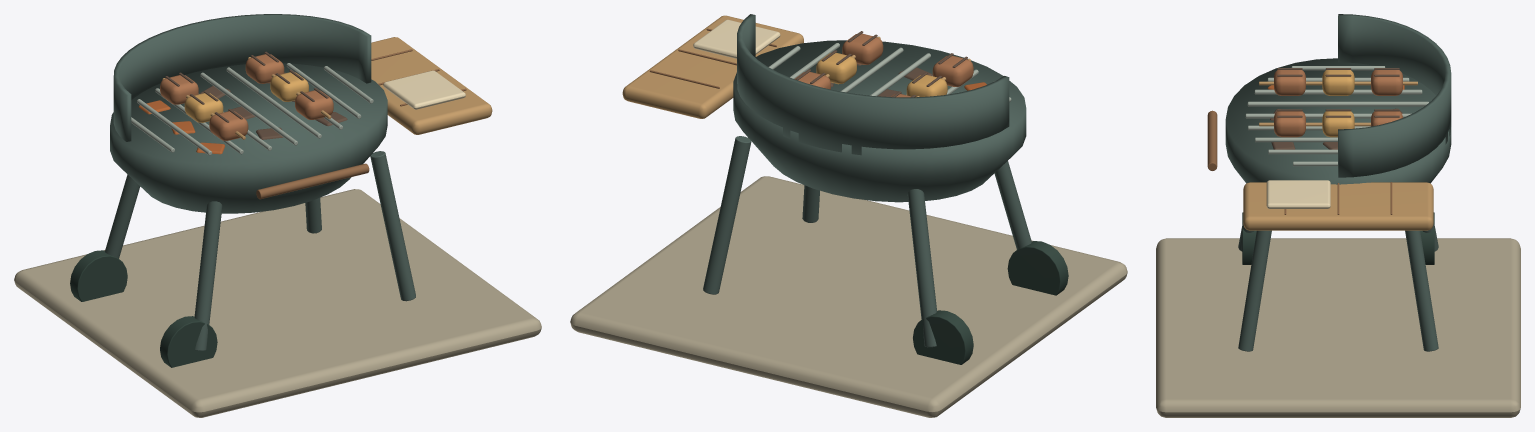
File: cozy_grill.glb
3 renders of one model, left to right at view 1: azimuth 30°, elevation 25°; view 2: azimuth 150°, elevation 25°; view 3: azimuth 270°, elevation 25°, orthographic. The views are drawn at different scales.
Parts seen in each view (by area): view 1: grill_Stone, grill_Iron, grill_TimberLight, grill_IronDark, grill_Steel, CookingFood_Roast, grill_Canvas, CookingFood_Crust, grill_Timber, WarmCoals_Char, WarmCoals_Ember, CookingFood_Char; view 2: grill_Stone, grill_Iron, grill_TimberLight, grill_IronDark, CookingFood_Roast, CookingFood_Crust, grill_Canvas, grill_Steel, CookingFood_Char; view 3: grill_Stone, grill_Iron, grill_TimberLight, grill_Steel, CookingFood_Roast, grill_Canvas, CookingFood_Crust, grill_IronDark, grill_Timber, CookingFood_Char, CookingFood_TimberLight.
Part boxes in pixels (<box>): grill_Stone: <box>14,189,541,417</box>; grill_Iron: <box>105,14,415,350</box>; grill_TimberLight: <box>371,37,492,134</box>; grill_IronDark: <box>70,250,217,367</box>; grill_Steel: <box>131,63,373,155</box>; CookingFood_Roast: <box>160,54,333,140</box>; grill_Canvas: <box>383,70,465,109</box>; CookingFood_Crust: <box>184,72,308,122</box>; grill_Timber: <box>256,49,466,199</box>; WarmCoals_Char: <box>199,72,347,139</box>; WarmCoals_Ember: <box>138,100,224,154</box>; CookingFood_Char: <box>165,51,328,122</box>; grill_Stone: <box>570,176,1127,417</box>; grill_Iron: <box>703,14,1031,347</box>; grill_TimberLight: <box>622,15,803,118</box>; grill_IronDark: <box>913,241,1068,364</box>; CookingFood_Roast: <box>794,33,973,97</box>; CookingFood_Crust: <box>816,52,947,97</box>; grill_Canvas: <box>693,19,780,58</box>; grill_Steel: <box>768,43,1011,101</box>; CookingFood_Char: <box>795,31,967,97</box>; grill_Stone: <box>1156,238,1520,417</box>; grill_Iron: <box>1225,14,1451,351</box>; grill_TimberLight: <box>1243,182,1433,230</box>; grill_Steel: <box>1245,66,1428,166</box>; CookingFood_Roast: <box>1274,70,1402,137</box>; grill_Canvas: <box>1266,180,1330,208</box>; CookingFood_Crust: <box>1322,70,1354,137</box>; grill_IronDark: <box>1242,212,1434,264</box>; grill_Timber: <box>1207,110,1392,214</box>; CookingFood_Char: <box>1277,68,1399,117</box>; CookingFood_TimberLight: <box>1259,81,1417,126</box>.
Bounding box in the file's own units: 1.8 × 1.25 × 1.65.
